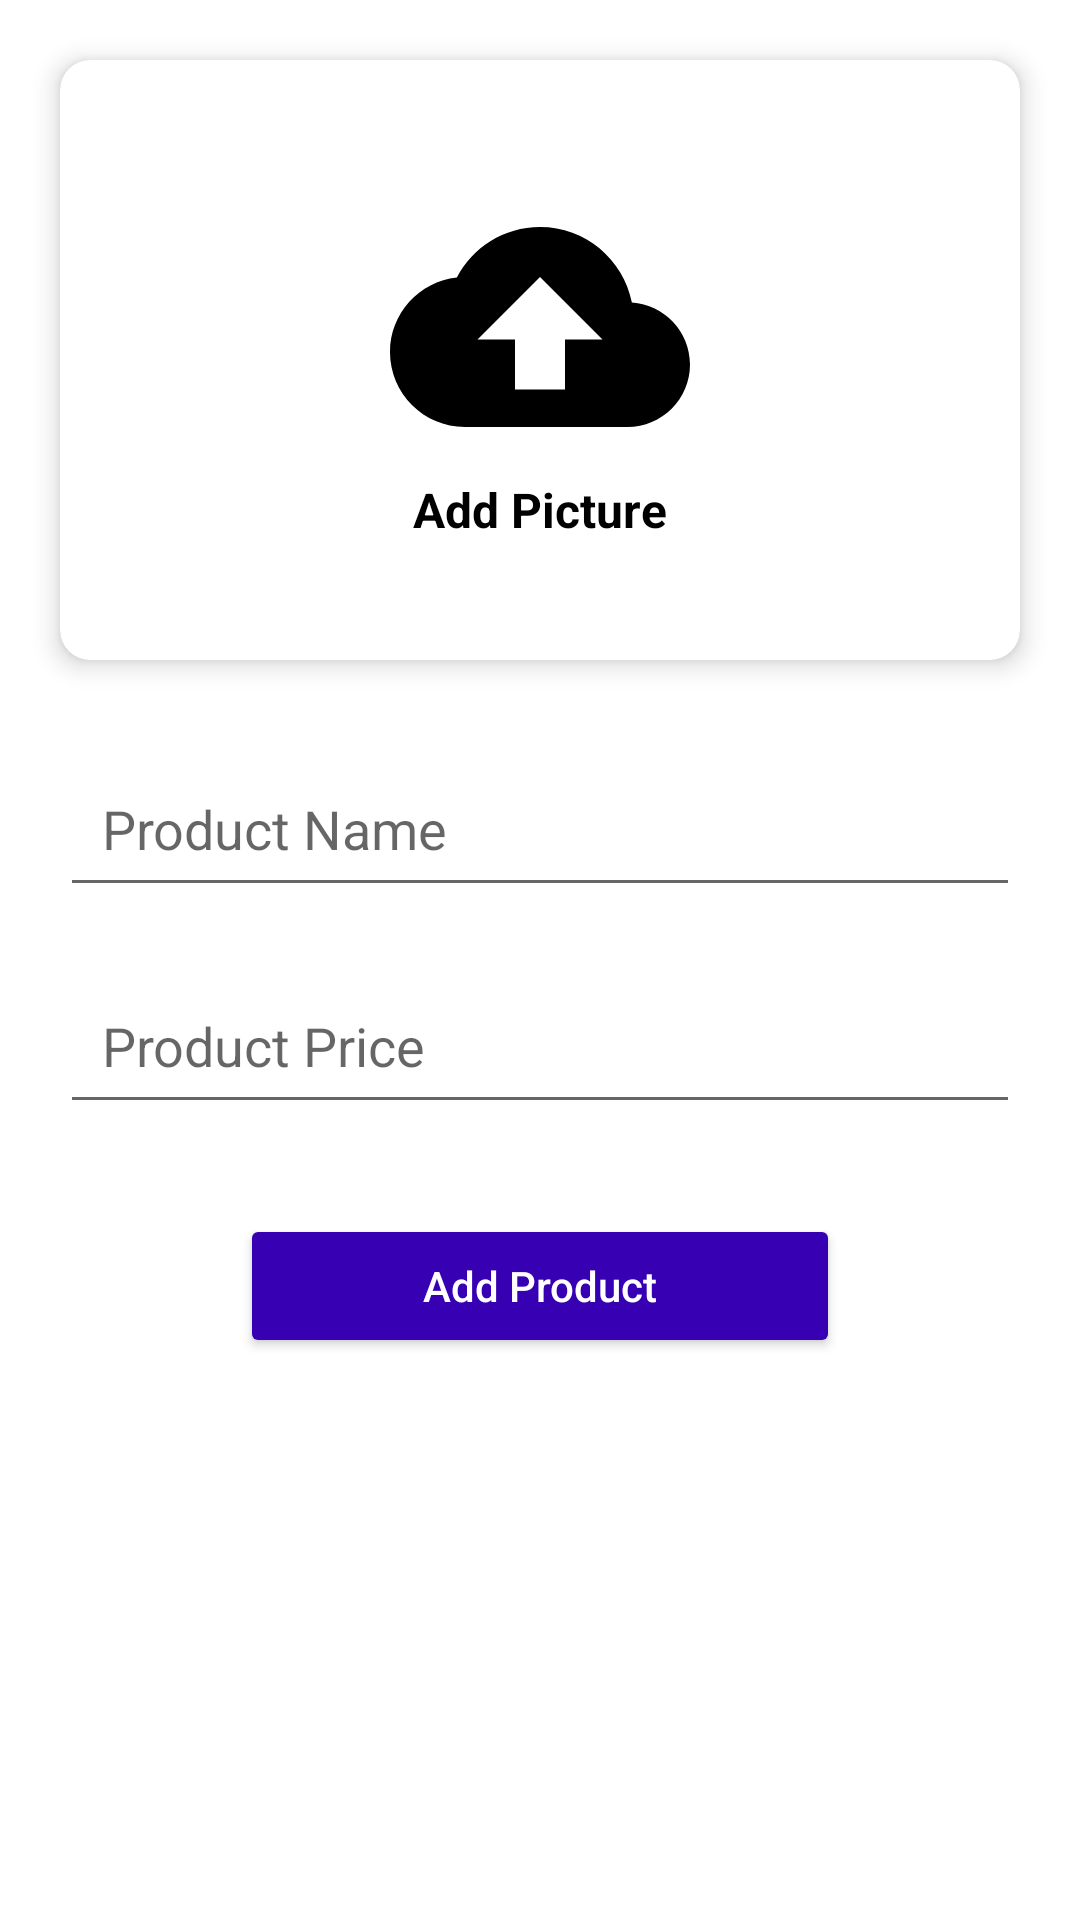

Named icons in this screenshot (1080 × 1920) and their centers, (x,y):
cloud upload: (540,327)
